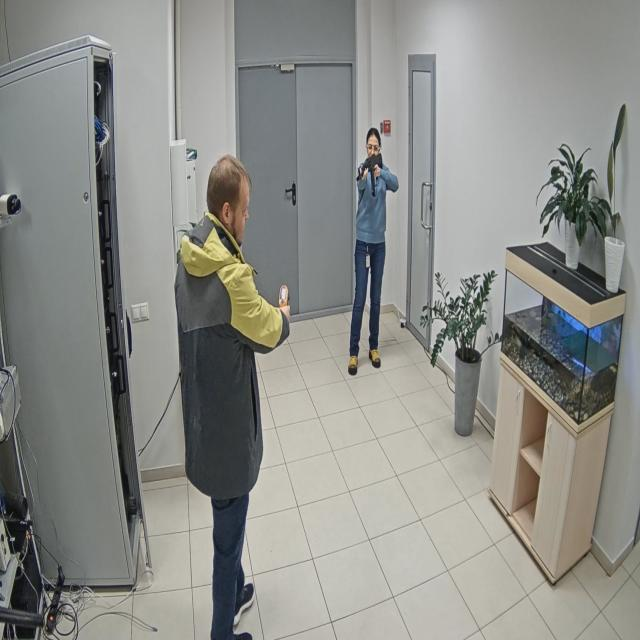-Gun: (356, 153, 383, 198)
